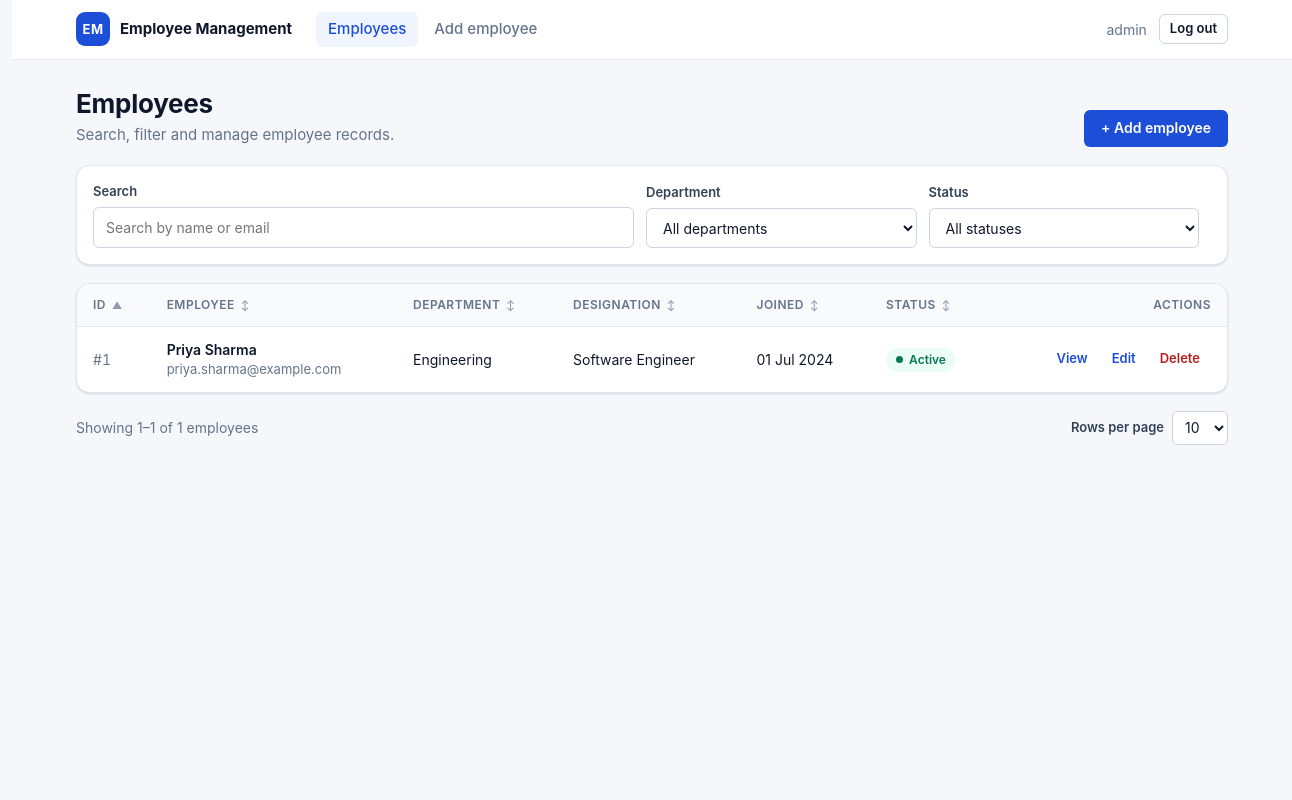
Test: Logout and session expiry › logs out and blocks access to protected pages afterwards
This screenshot has width=1292, height=800.
Expected: the heading "Employees" is shown, x1=76 y1=88 x2=213 y2=118
Click the button "Log out". click: coordinates (1193, 29)
box: x1=1159 y1=14 x2=1228 y2=44
(page scrolled)
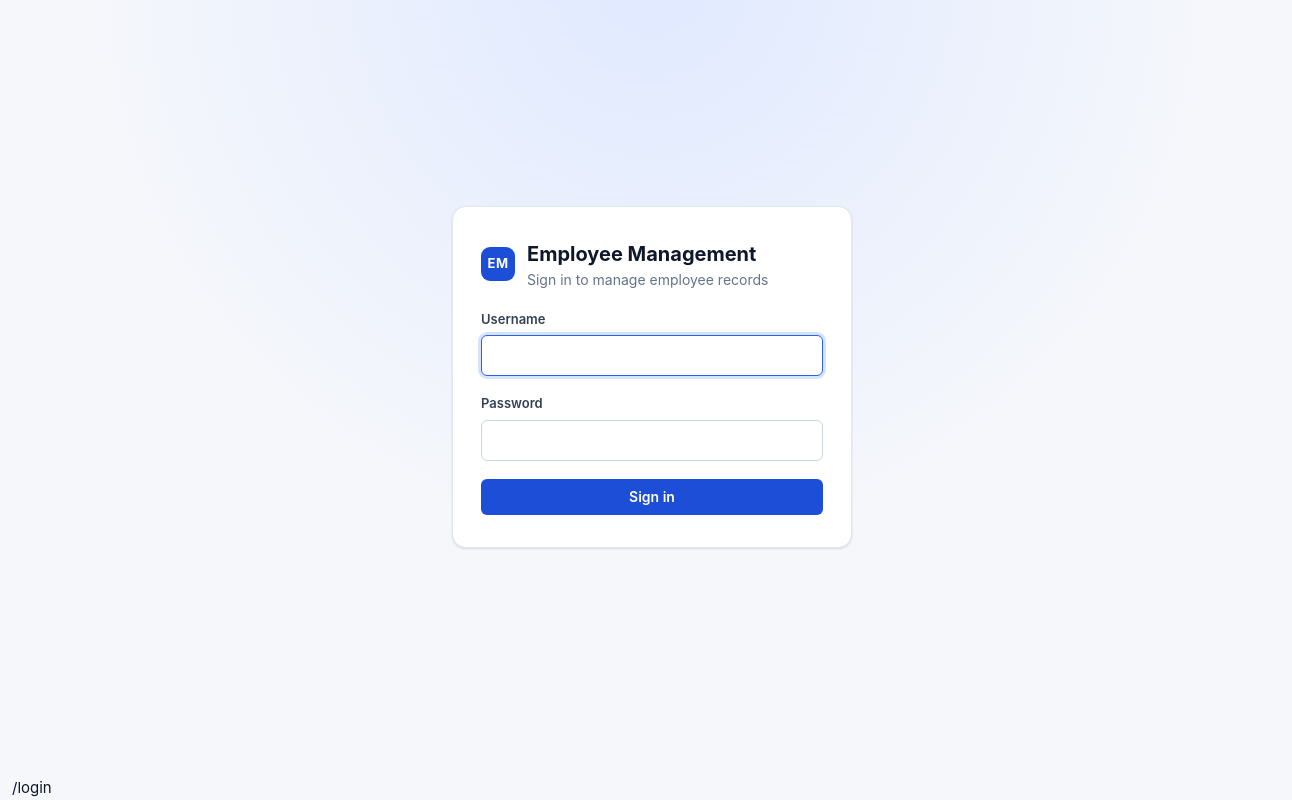
Expected: the button "Sign in" is shown, x1=481 y1=479 x2=823 y2=515
Expected: the text with test id "current-location" reads "/login", x1=12 y1=778 x2=52 y2=797
